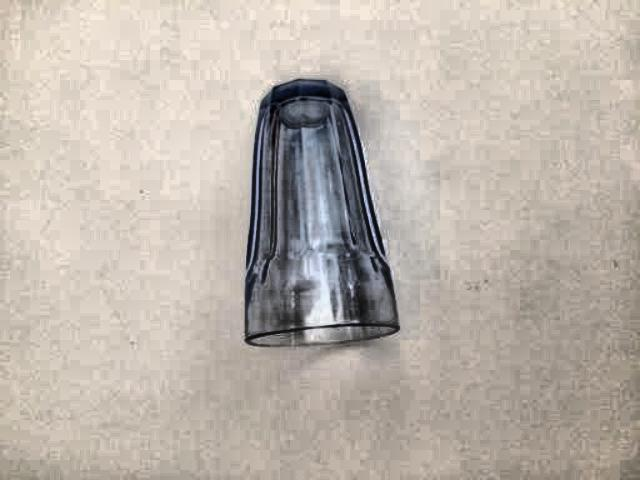Almennt: (218, 70, 442, 382)
